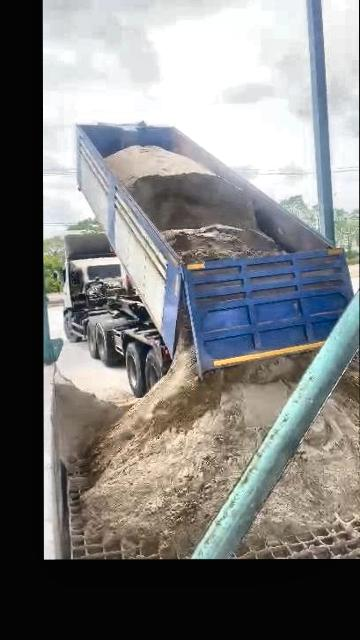sand: (83, 327, 313, 558), (106, 146, 280, 261), (247, 370, 360, 546), (54, 383, 127, 463)
